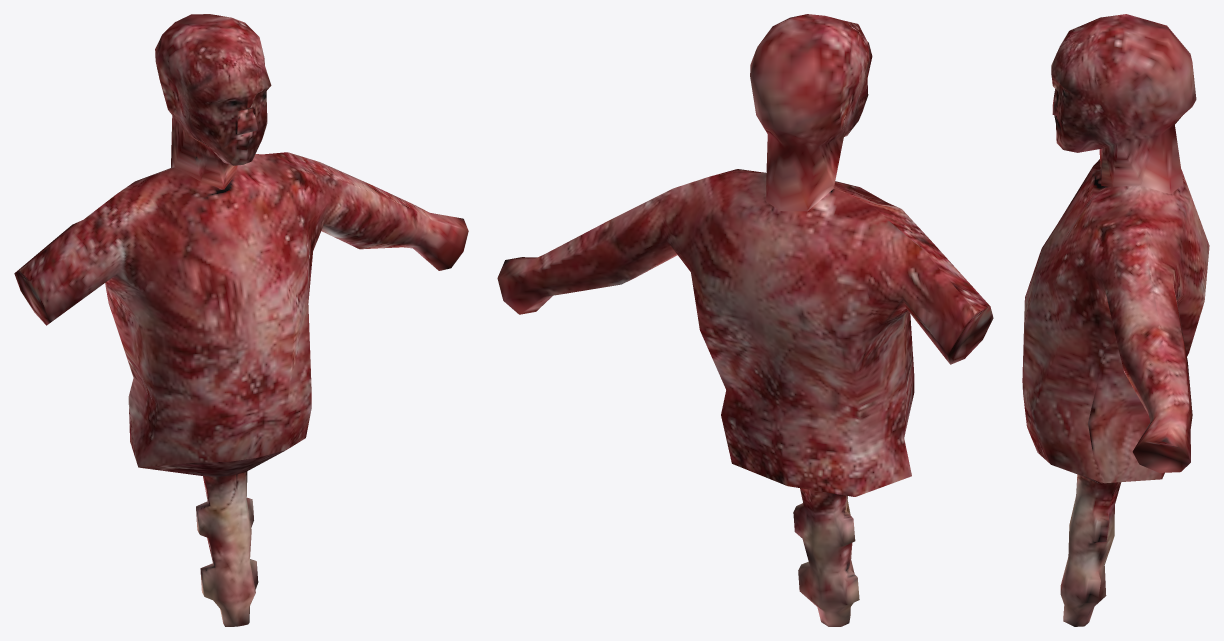
The model's file is MeatTorso.fbx.
3 views of the same model, side by side, from view 1: azimuth 30°, elevation 25°; view 2: azimuth 150°, elevation 25°; view 3: azimuth 270°, elevation 25° (orthographic). The views are drawn at different scales.
Parts seen in each view (by area): view 1: BaseMesh; view 2: BaseMesh; view 3: BaseMesh.
Boxes of the visible parts, x1,y1,x2,y2 form: BaseMesh: (14, 14, 468, 626); BaseMesh: (497, 14, 993, 626); BaseMesh: (1022, 14, 1209, 626).
Bounding box in the file's own units: 91.04 × 114 × 32.34.
Materials: 1 (1 with a texture image).
